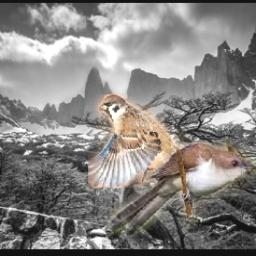Cuckoo: (108, 143, 256, 239)
Sparrow: (87, 95, 196, 189)
